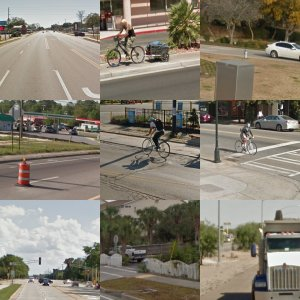汽車: (254, 212, 300, 298), (253, 111, 299, 131), (266, 37, 299, 62), (35, 276, 61, 289)
腳踏車: (104, 15, 151, 67), (139, 113, 178, 165), (231, 121, 262, 157)
